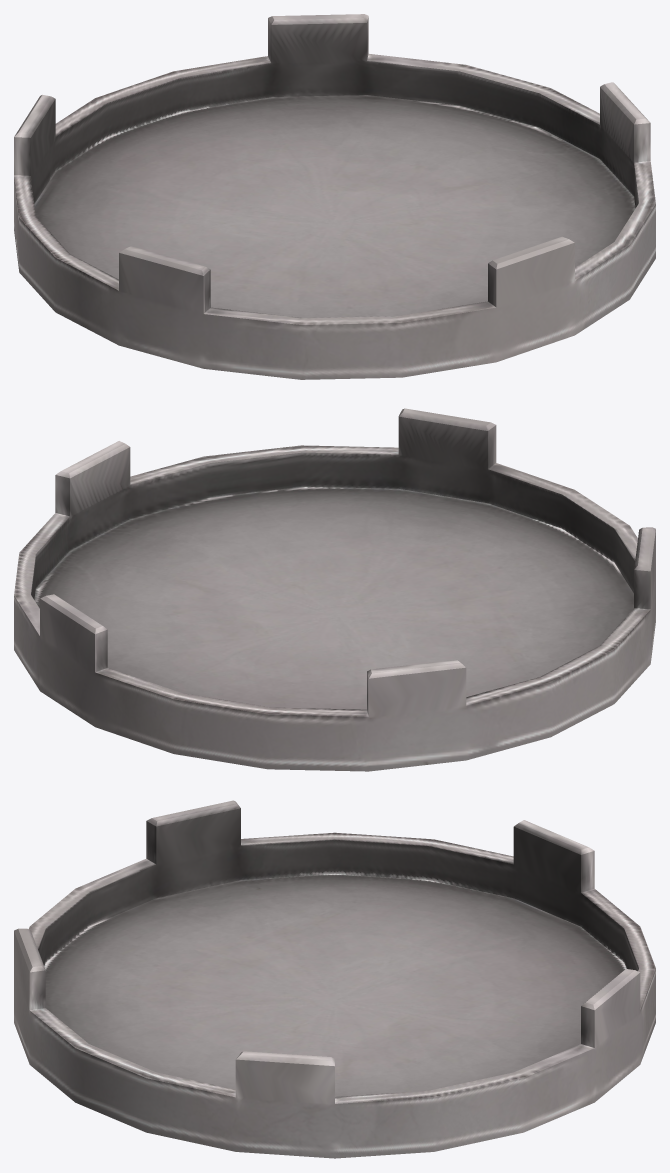
File: Astray.fbx
3 views of the same model, one above another, from view 1: azimuth 30°, elevation 25°; view 2: azimuth 150°, elevation 25°; view 3: azimuth 270°, elevation 25° (orthographic).
Parts seen in each view (by area): view 1: polySurface24; view 2: polySurface24; view 3: polySurface24.
Part boxes in pixels (bbox=[...]): polySurface24: bbox=[14, 14, 655, 379]; polySurface24: bbox=[14, 408, 655, 771]; polySurface24: bbox=[14, 800, 655, 1158].
Size of the model in its own units: 9.6 by 1.58 by 9.6.
